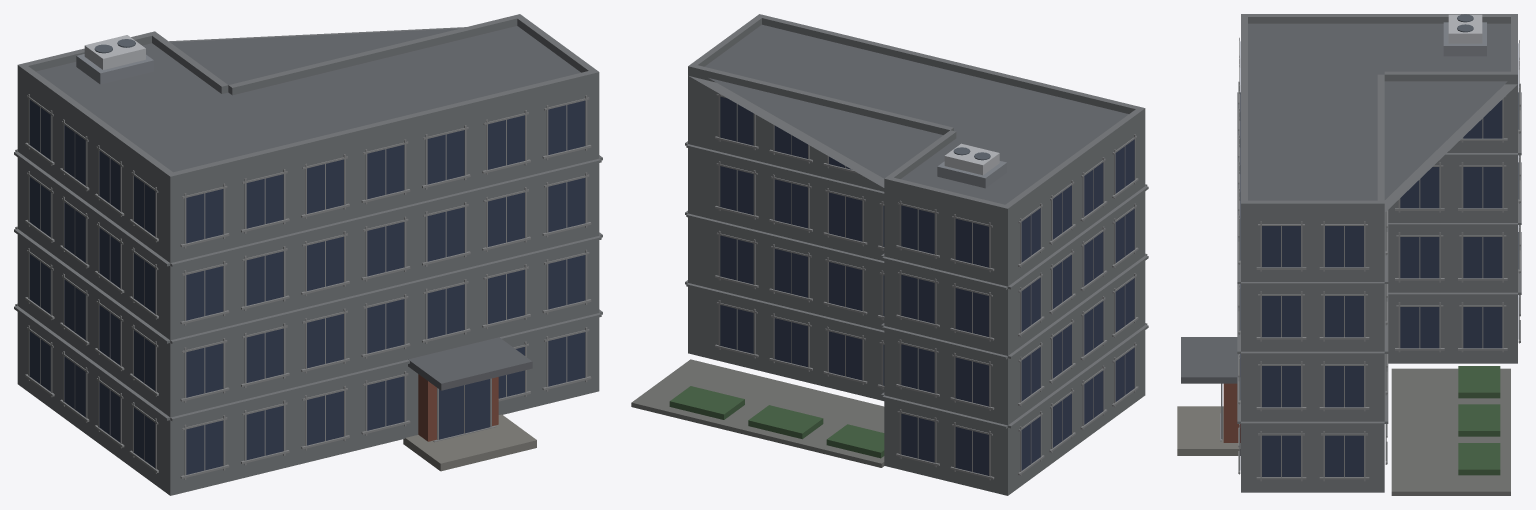
Rendered from civic_corner_07x02_lvl1.glb.
3 renders of one model, left to right at view 1: azimuth 30°, elevation 25°; view 2: azimuth 150°, elevation 25°; view 3: azimuth 270°, elevation 25°, orthographic. The views are drawn at different scales.
Parts seen in each view (by area): view 1: civic_corner_07x02; view 2: civic_corner_07x02; view 3: civic_corner_07x02.
Part boxes in pixels (x1,y1,x2,y2): civic_corner_07x02: (14, 14, 602, 495); civic_corner_07x02: (631, 14, 1148, 495); civic_corner_07x02: (1177, 14, 1521, 495).
Bounding box in the file's own units: 1 × 0.7667 × 0.7552.
